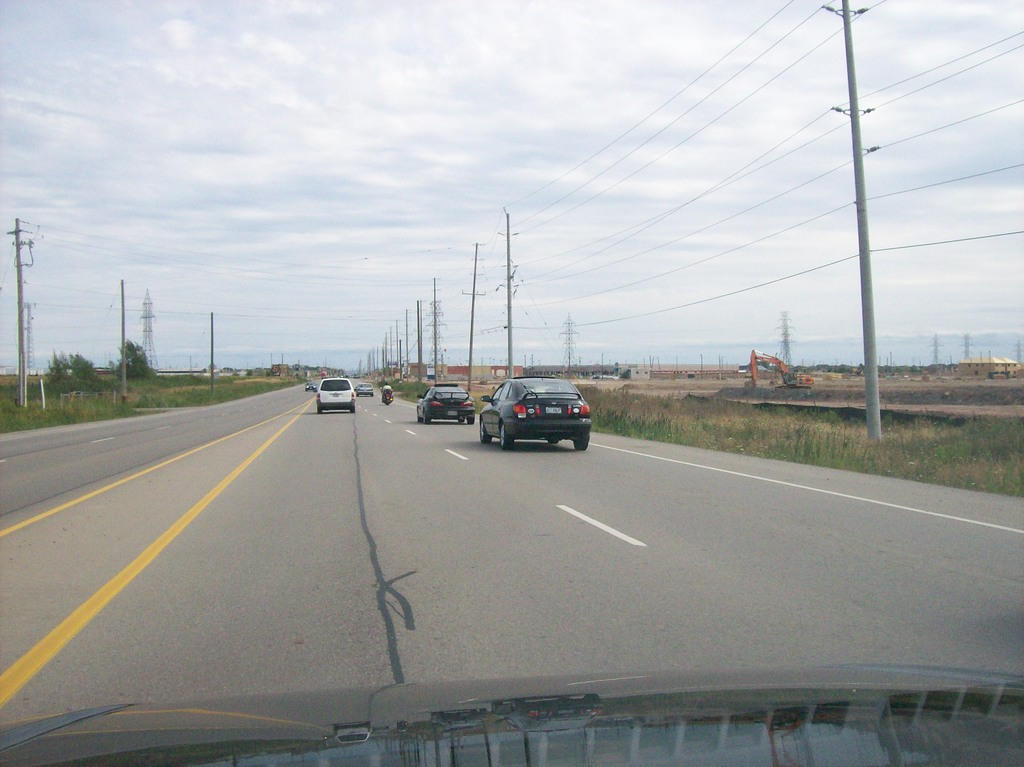Car: (0, 663, 1023, 766), (481, 377, 597, 456), (414, 383, 476, 420), (315, 376, 353, 413), (353, 381, 376, 397), (302, 378, 318, 390)
